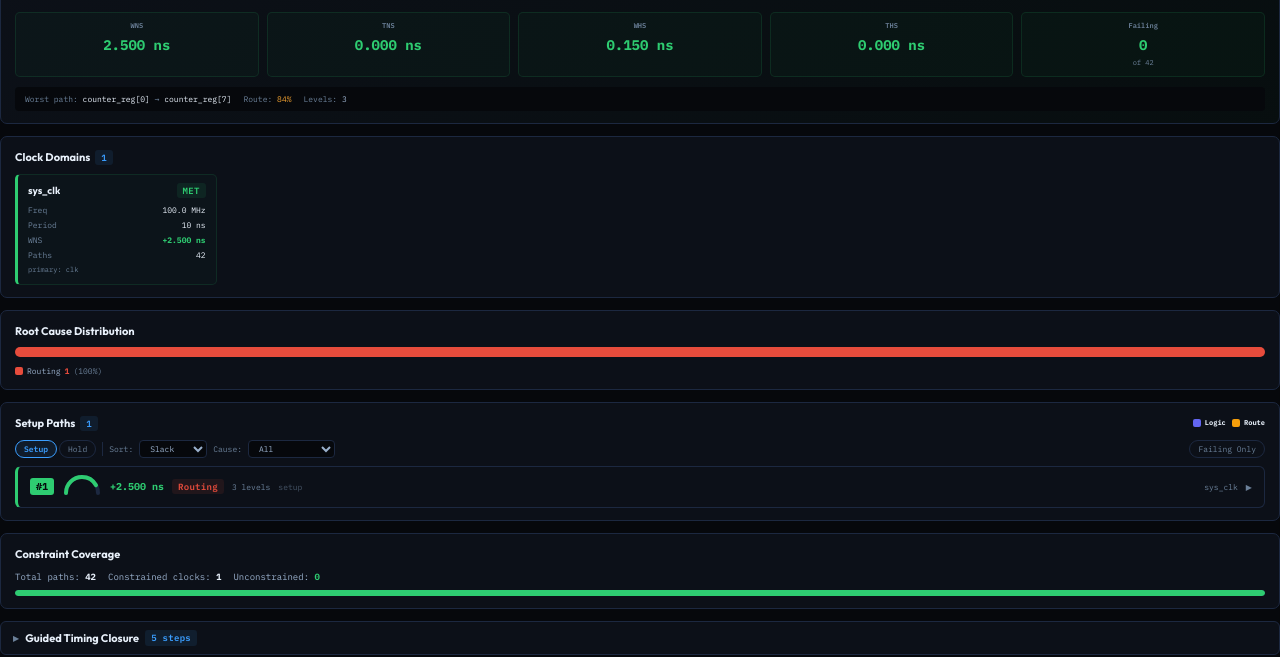
Test: TimingAnalyzer › expands wizard to show steps
This screenshot has width=1280, height=657.
(page scrolled)
Click the text "Guided Timing Closure". click: (82, 638)
box: [25,630,139,646]
(page scrolled)
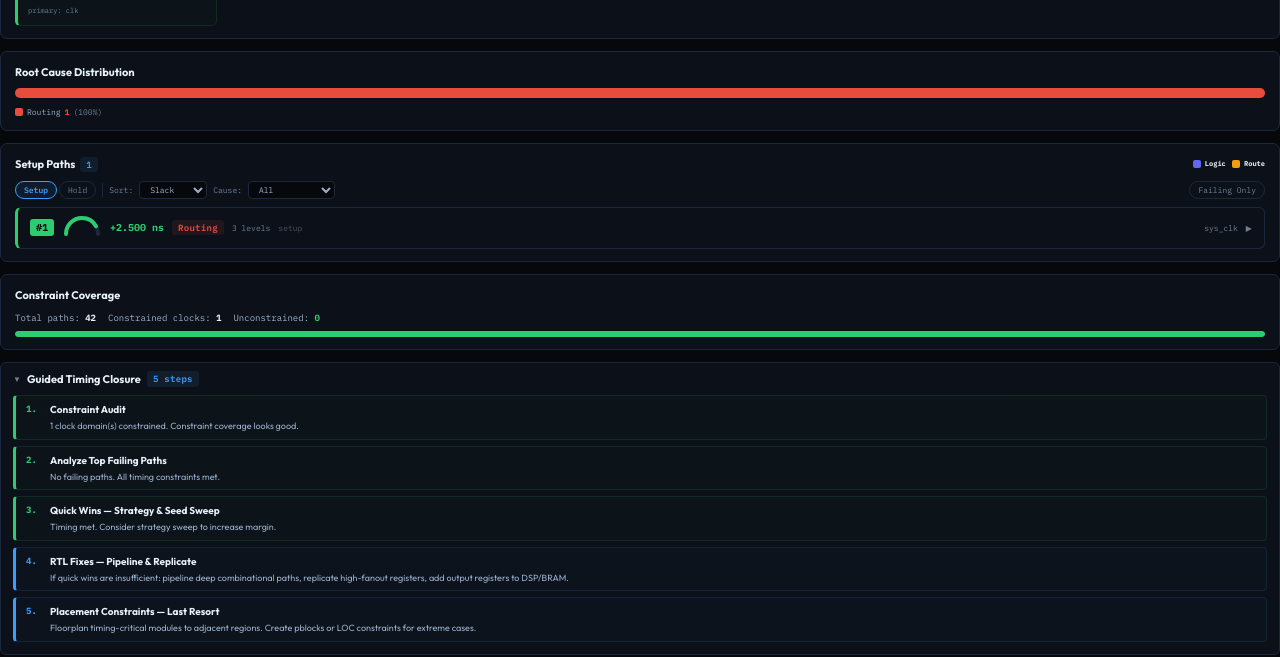
Expected: the text "Constraint Audit" is shown, [50,403,126,416]
Expected: the text "Analyze Top Failing Paths" is shown, [50,454,167,466]
Expected: the text "Quick Wins — Strategy & Seed Sweep" is shown, [50,504,220,517]
